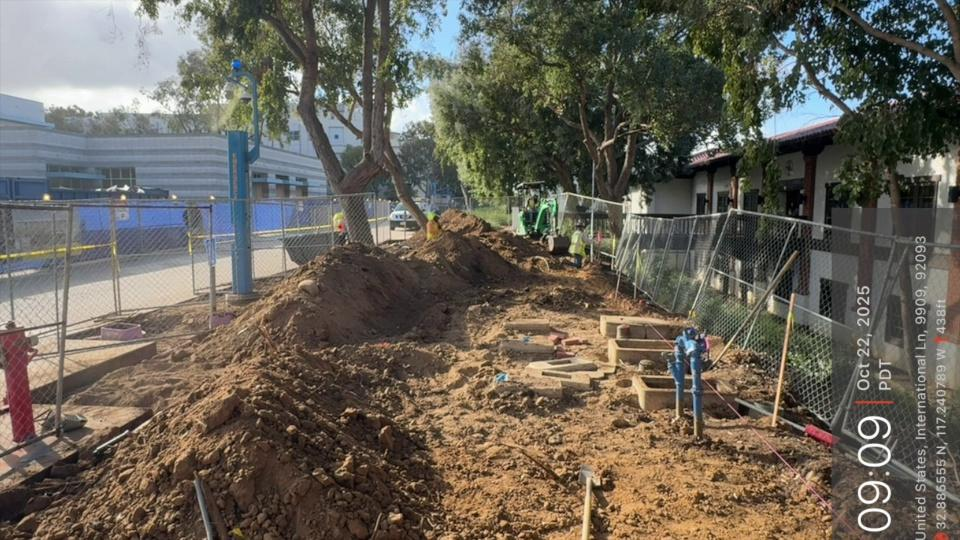Exacavator: (477, 165, 591, 277)
